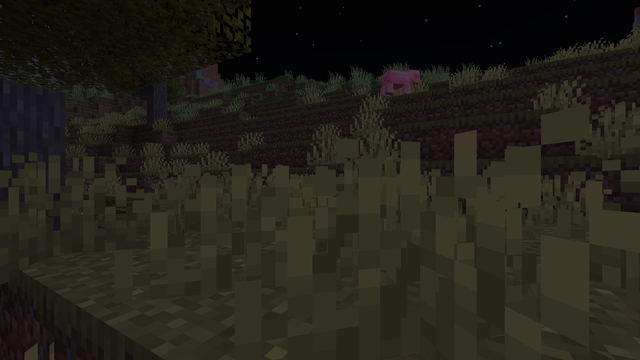cochons: (382, 66, 410, 96)
